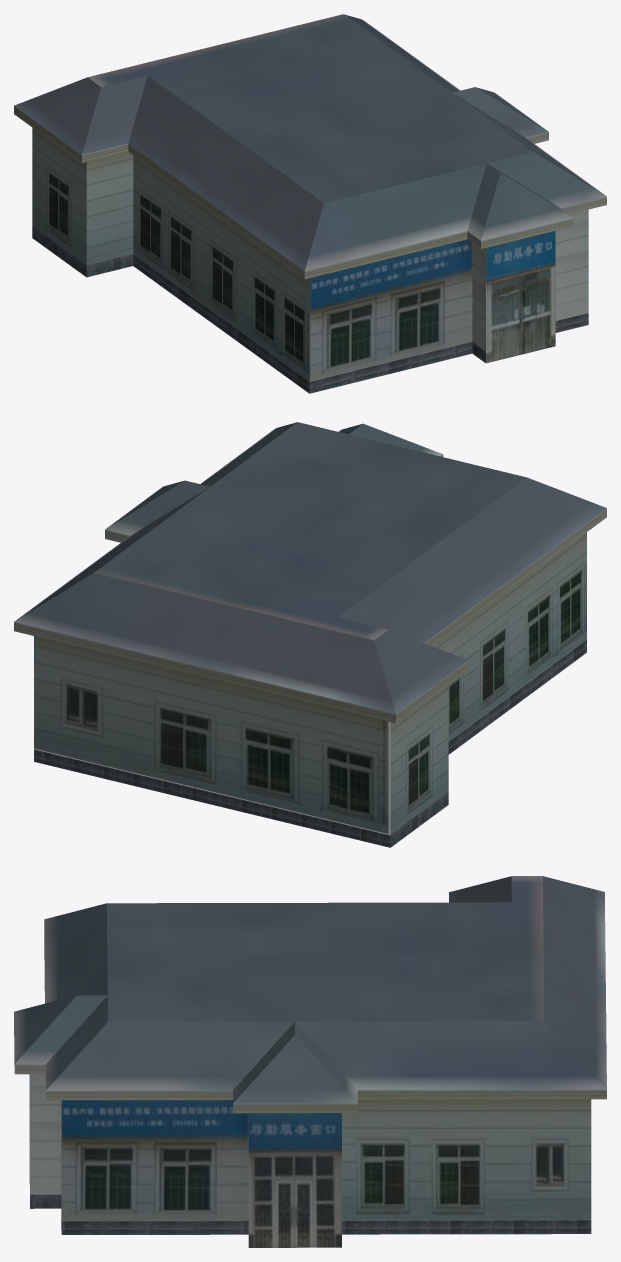
Rendered from cdzx.gltf.
3 views of the same model, one above another, from view 1: azimuth 30°, elevation 25°; view 2: azimuth 150°, elevation 25°; view 3: azimuth 270°, elevation 25° (orthographic). The views are drawn at different scales.
Visible parts, largest first — view 1: Model#3; view 2: Model#3; view 3: Model#3.
Boxes of the visible parts, left/top/right/bottom form: Model#3: left=14, top=14, right=606, bottom=393; Model#3: left=14, top=422, right=606, bottom=847; Model#3: left=14, top=876, right=606, bottom=1247.
Bounding box in the file's own units: 0.0161 × 0.00685 × 0.019.
Materials: 3 (2 with a texture image).
